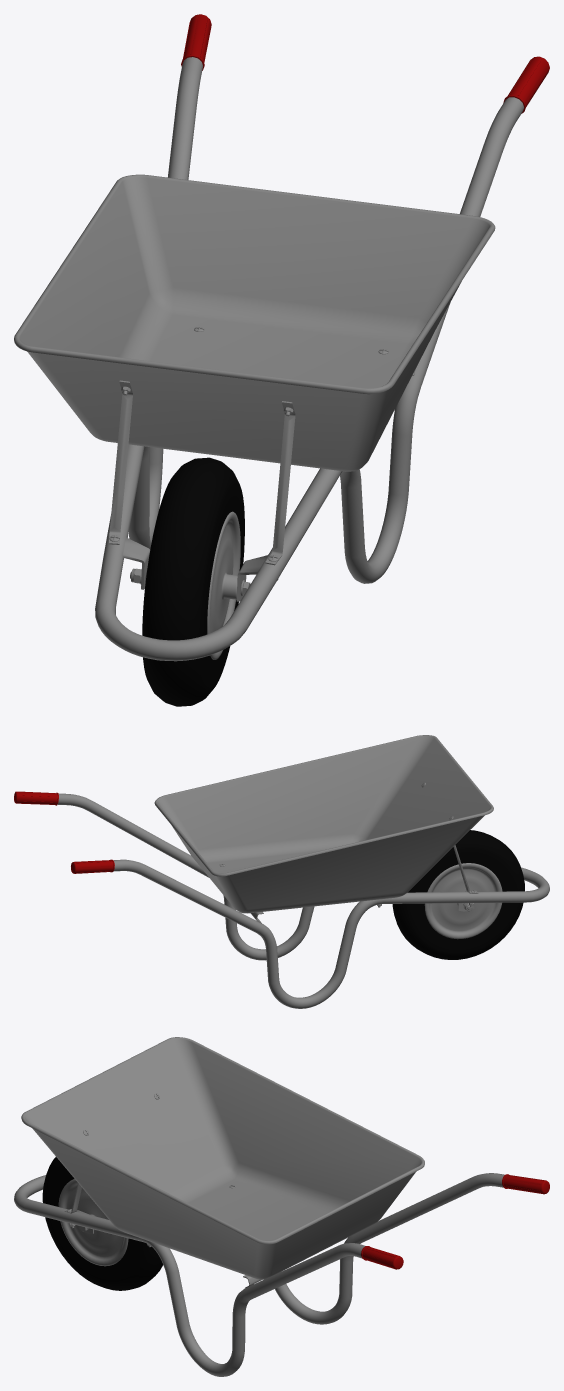
The model's file is herbe.fbx.
3 renders of one model, top to bottom at view 1: azimuth 30°, elevation 25°; view 2: azimuth 150°, elevation 25°; view 3: azimuth 270°, elevation 25°, orthographic. The views are drawn at different scales.
Visible parts, largest first — view 1: Cube.004_Baked; view 2: Cube.004_Baked; view 3: Cube.004_Baked.
Part boxes in pixels (bbox=[...]): Cube.004_Baked: bbox=[14, 14, 549, 706]; Cube.004_Baked: bbox=[14, 735, 549, 1008]; Cube.004_Baked: bbox=[14, 1037, 549, 1376].
Bounding box in the file's own units: 3.07 × 1.45 × 3.2.
